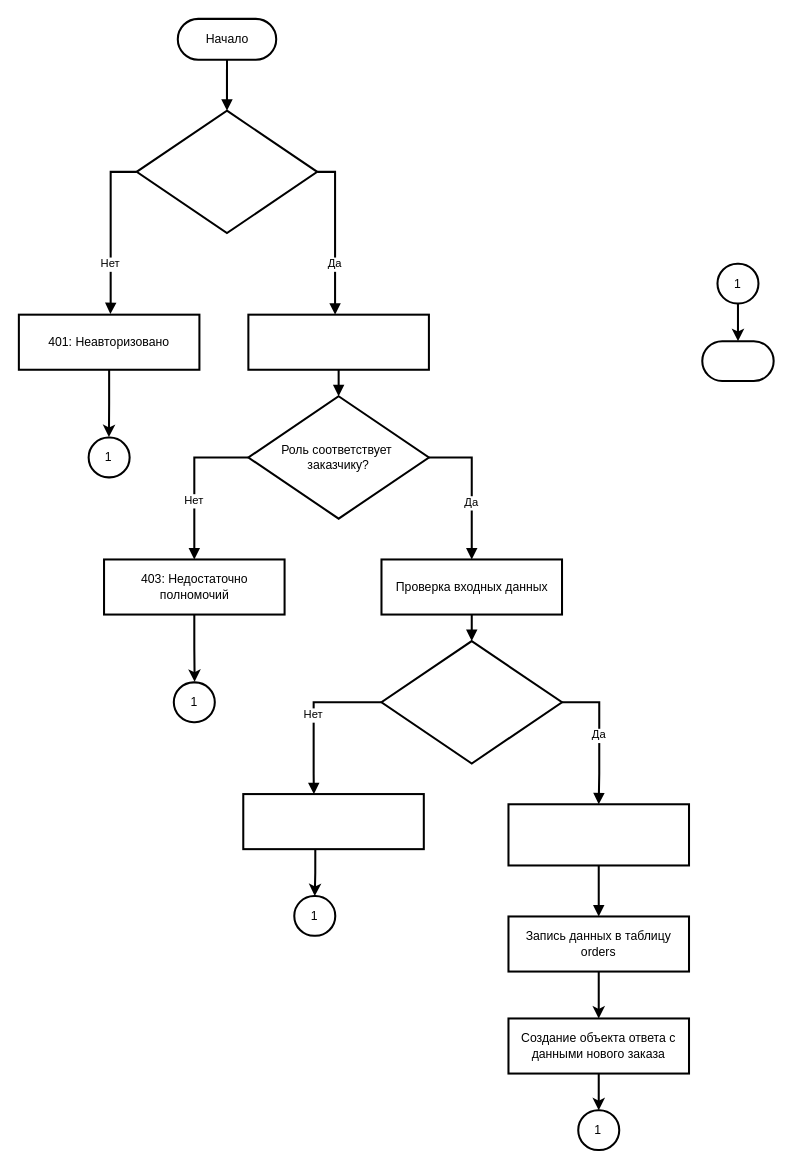
Some shapes in this 792 by 1168 pixel diagram are drawn without their labels. Here are the shapes that lost their labels. From the top down, the centre of each, then its label:
At [226,171]: "Пользователь авторизован?".
At [338,341]: "Получение роли пользователя".
At [737,360]: "Конец".
At [471,702]: "Данные корректны?".
At [333,821]: "Ошибка 400: Неверные данные".
At [598,834]: "Инициализация транзакции бд".
